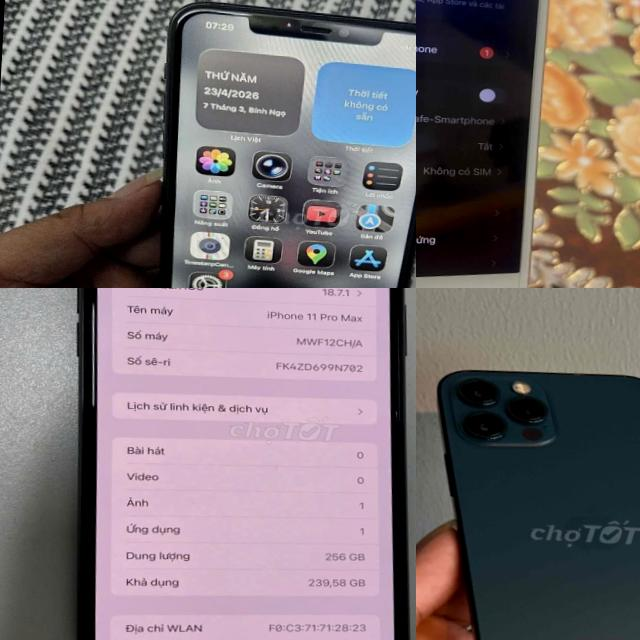gen_11: (58, 288, 416, 640), (131, 0, 416, 288)
gen_12_13: (416, 361, 640, 640)
gen_7_8: (416, 0, 566, 288)
scratch: (173, 6, 260, 28)
